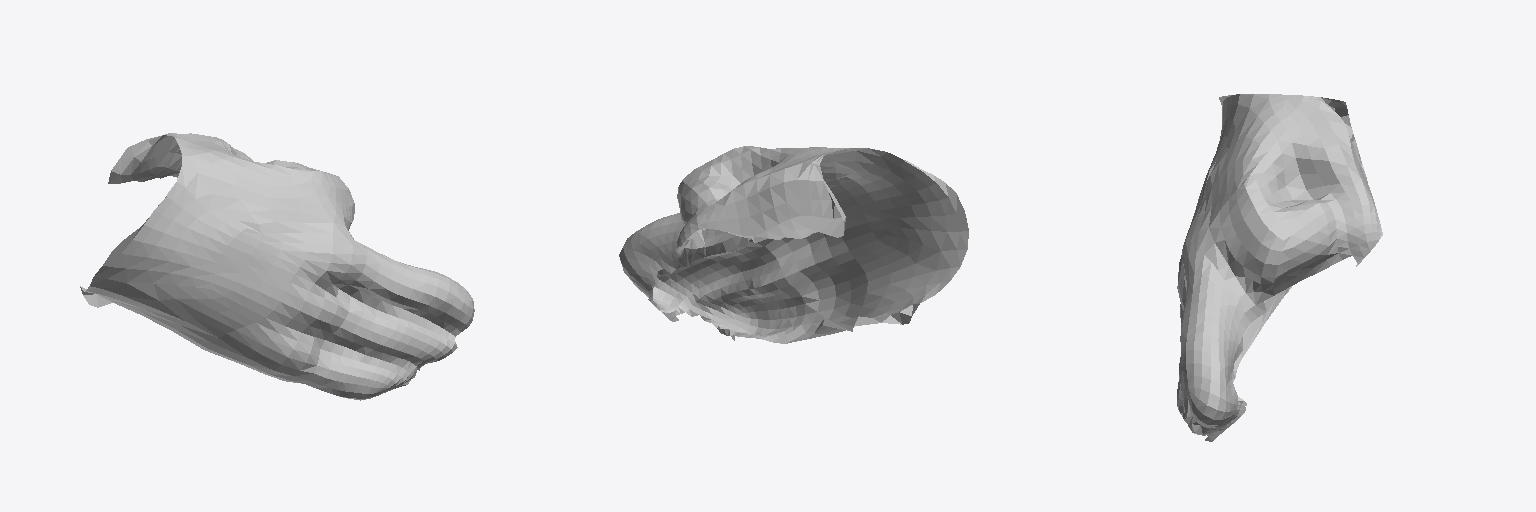
Rendered from main_droite.obj.
3 renders of one model, left to right at view 1: azimuth 30°, elevation 25°; view 2: azimuth 150°, elevation 25°; view 3: azimuth 270°, elevation 25°, orthographic.
Visible parts, largest first — view 1: 15548_French_Horseman_v1.006; view 2: 15548_French_Horseman_v1.006; view 3: 15548_French_Horseman_v1.006.
Part boxes in pixels (left/top/right/bottom): 15548_French_Horseman_v1.006: left=80, top=133, right=474, bottom=400; 15548_French_Horseman_v1.006: left=619, top=146, right=968, bottom=343; 15548_French_Horseman_v1.006: left=1177, top=94, right=1382, bottom=441.
Bounding box in the file's own units: 0.8765 × 0.5865 × 0.4331.